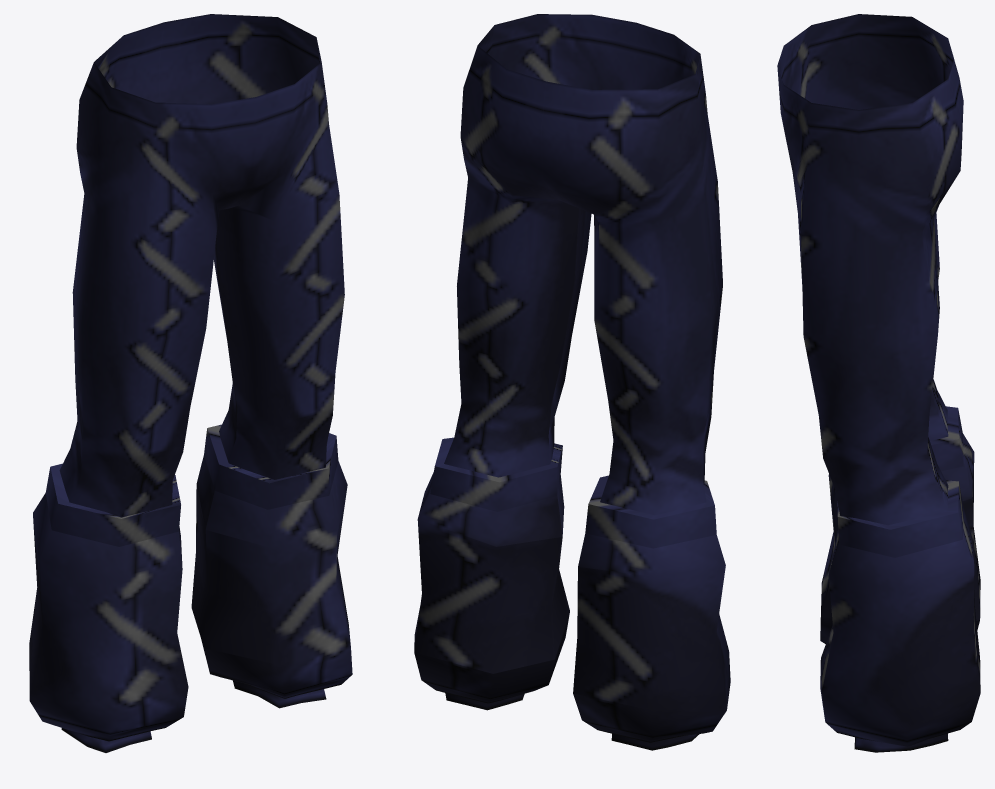
The model's file is hum_berserker_07_895dc1a5.glb.
3 views of the same model, side by side, from view 1: azimuth 30°, elevation 25°; view 2: azimuth 150°, elevation 25°; view 3: azimuth 270°, elevation 25° (orthographic). The views are drawn at different scales.
Bounding box in the file's own units: 0.707 × 1.35 × 0.3778.
Materials: 1 (1 with a texture image).
